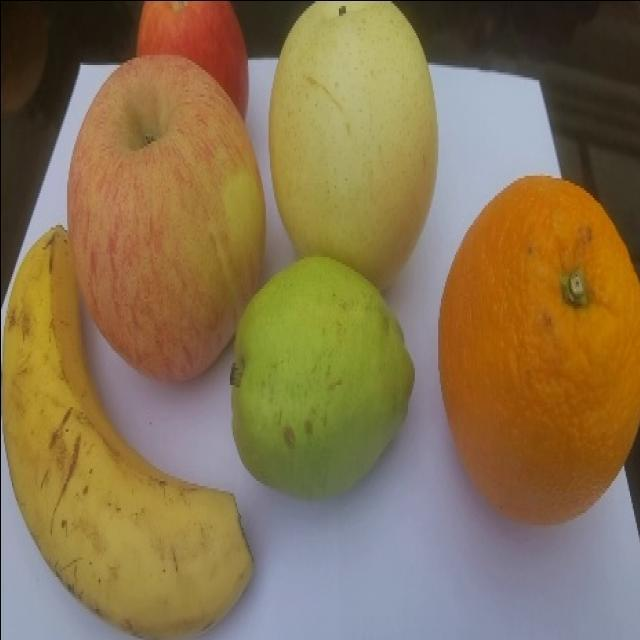Apple: (66, 53, 266, 383), (135, 0, 249, 121)
Banana: (0, 224, 254, 638)
Orange: (437, 173, 639, 525)
